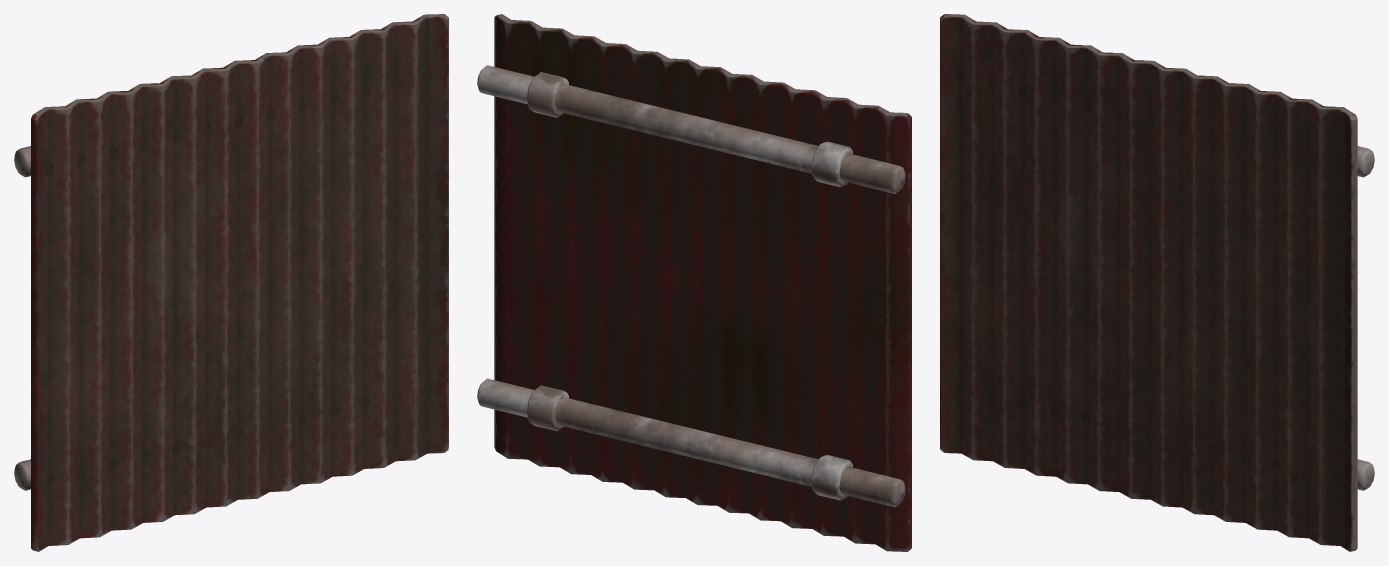
Rendered from sm_metal_wall_01.fbx.
3 views of the same model, side by side, from view 1: azimuth 30°, elevation 25°; view 2: azimuth 150°, elevation 25°; view 3: azimuth 330°, elevation 25° (orthographic).
Visible parts, largest first — view 1: sm_metal_wall_01; view 2: sm_metal_wall_01; view 3: sm_metal_wall_01.
Boxes of the visible parts, x1=… form: sm_metal_wall_01: x1=14, y1=14, x2=448, y2=551; sm_metal_wall_01: x1=477, y1=14, x2=911, y2=551; sm_metal_wall_01: x1=940, y1=14, x2=1374, y2=551.
Bounding box in the file's own units: 200 × 200 × 20.67.
Materials: 1 (1 with a texture image).
